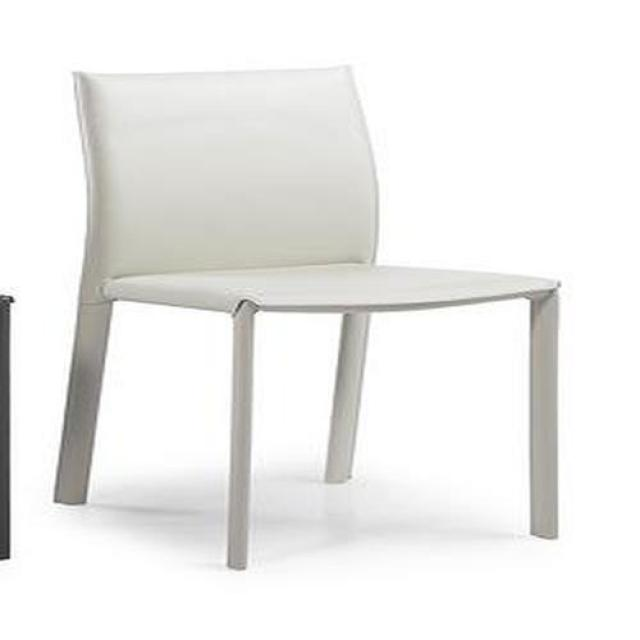chair: (52, 65, 561, 572)
